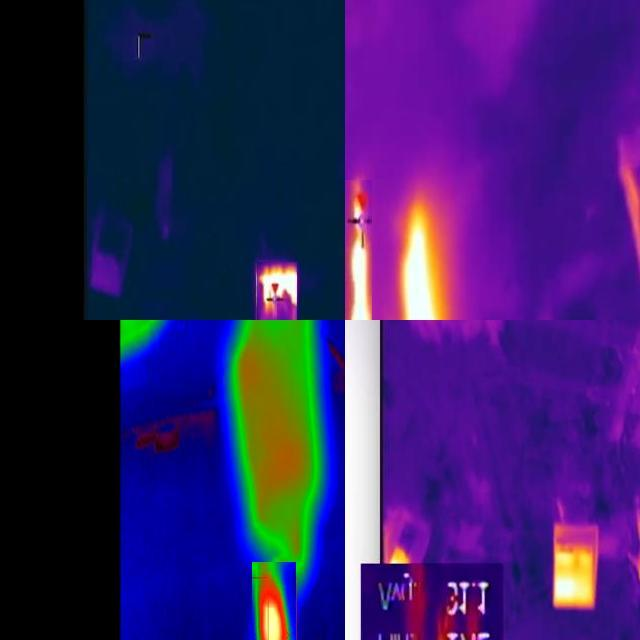fire: (400, 191, 452, 321), (346, 181, 373, 321), (253, 563, 297, 640), (258, 263, 298, 321)
